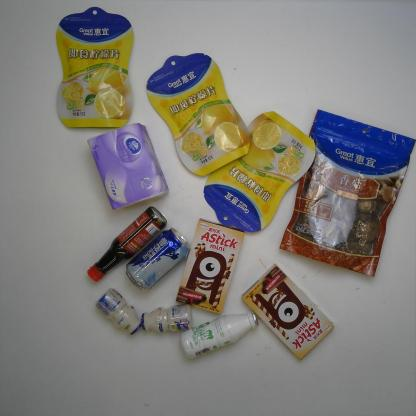Alcohol: (123, 222, 193, 291)
Dessert: (239, 263, 338, 362), (170, 216, 247, 317)
Dried Food: (275, 104, 416, 281)
Dried Fruit: (198, 106, 320, 236), (143, 49, 254, 180), (45, 6, 142, 132)
Milk: (174, 306, 260, 360), (93, 283, 146, 338), (138, 298, 194, 336)
Seasoner: (82, 202, 166, 288)
Tissue: (86, 121, 174, 213)
